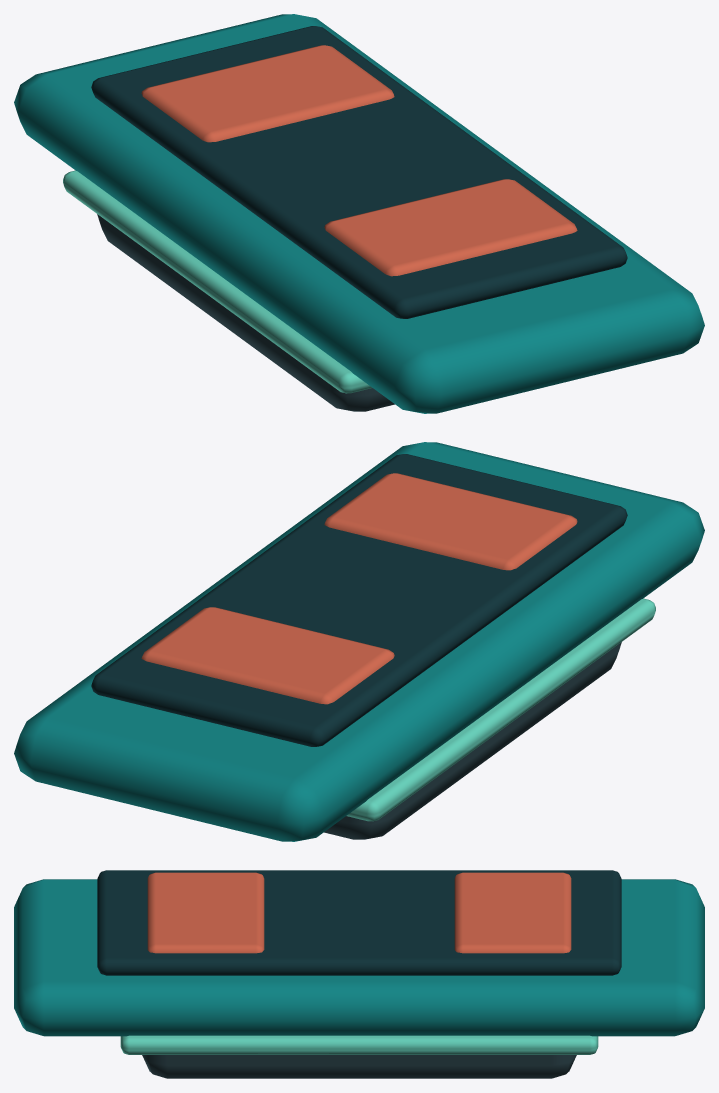
The model's file is board-tide.glb.
3 renders of one model, top to bottom at view 1: azimuth 30°, elevation 25°; view 2: azimuth 150°, elevation 25°; view 3: azimuth 270°, elevation 25°, orthographic. The views are drawn at different scales.
Visible parts, largest first — view 1: Mesh_0; view 2: Mesh_0; view 3: Mesh_0.
Part boxes in pixels (x1=…): Mesh_0: x1=14, y1=14, x2=704, y2=413; Mesh_0: x1=14, y1=442, x2=704, y2=841; Mesh_0: x1=14, y1=870, x2=704, y2=1078.
Bounding box in the file's own units: 0.72 × 0.3125 × 1.62.
